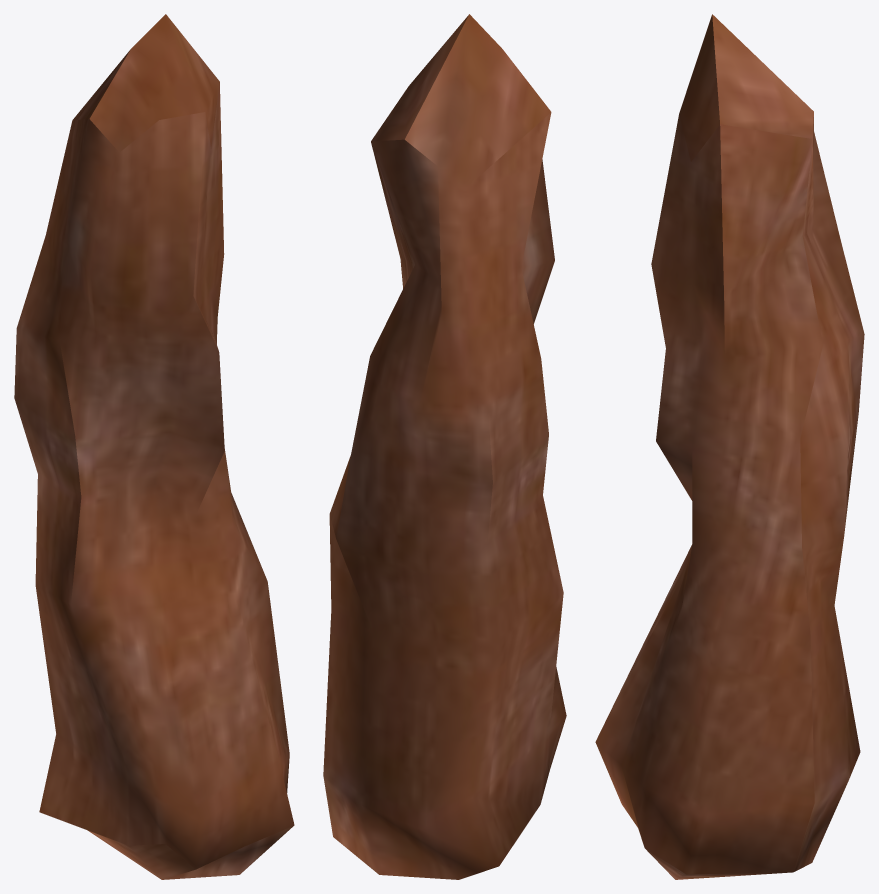
File: Canyon_Rock_Formations_6.glb
3 renders of one model, left to right at view 1: azimuth 30°, elevation 25°; view 2: azimuth 150°, elevation 25°; view 3: azimuth 270°, elevation 25°, orthographic. The views are drawn at different scales.
Visible parts, largest first — view 1: Canyon_Rock_Formations_6_0; view 2: Canyon_Rock_Formations_6_0; view 3: Canyon_Rock_Formations_6_0.
Part boxes in pixels (x1,y1,x2,y2): Canyon_Rock_Formations_6_0: [14, 14, 294, 879]; Canyon_Rock_Formations_6_0: [323, 14, 566, 879]; Canyon_Rock_Formations_6_0: [595, 14, 864, 879].
Size of the model in its own units: 3.47 by 13.41 by 3.9.
1 material, 1 textured.
